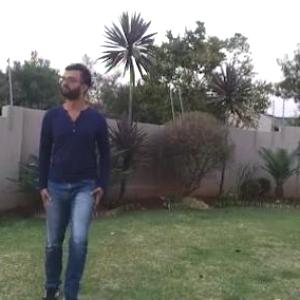follow: (30, 39, 115, 299)
